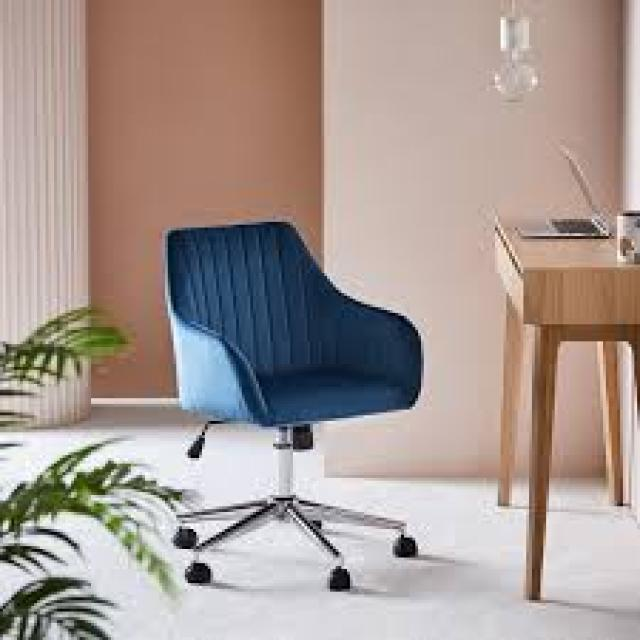chair: (106, 155, 470, 638)
